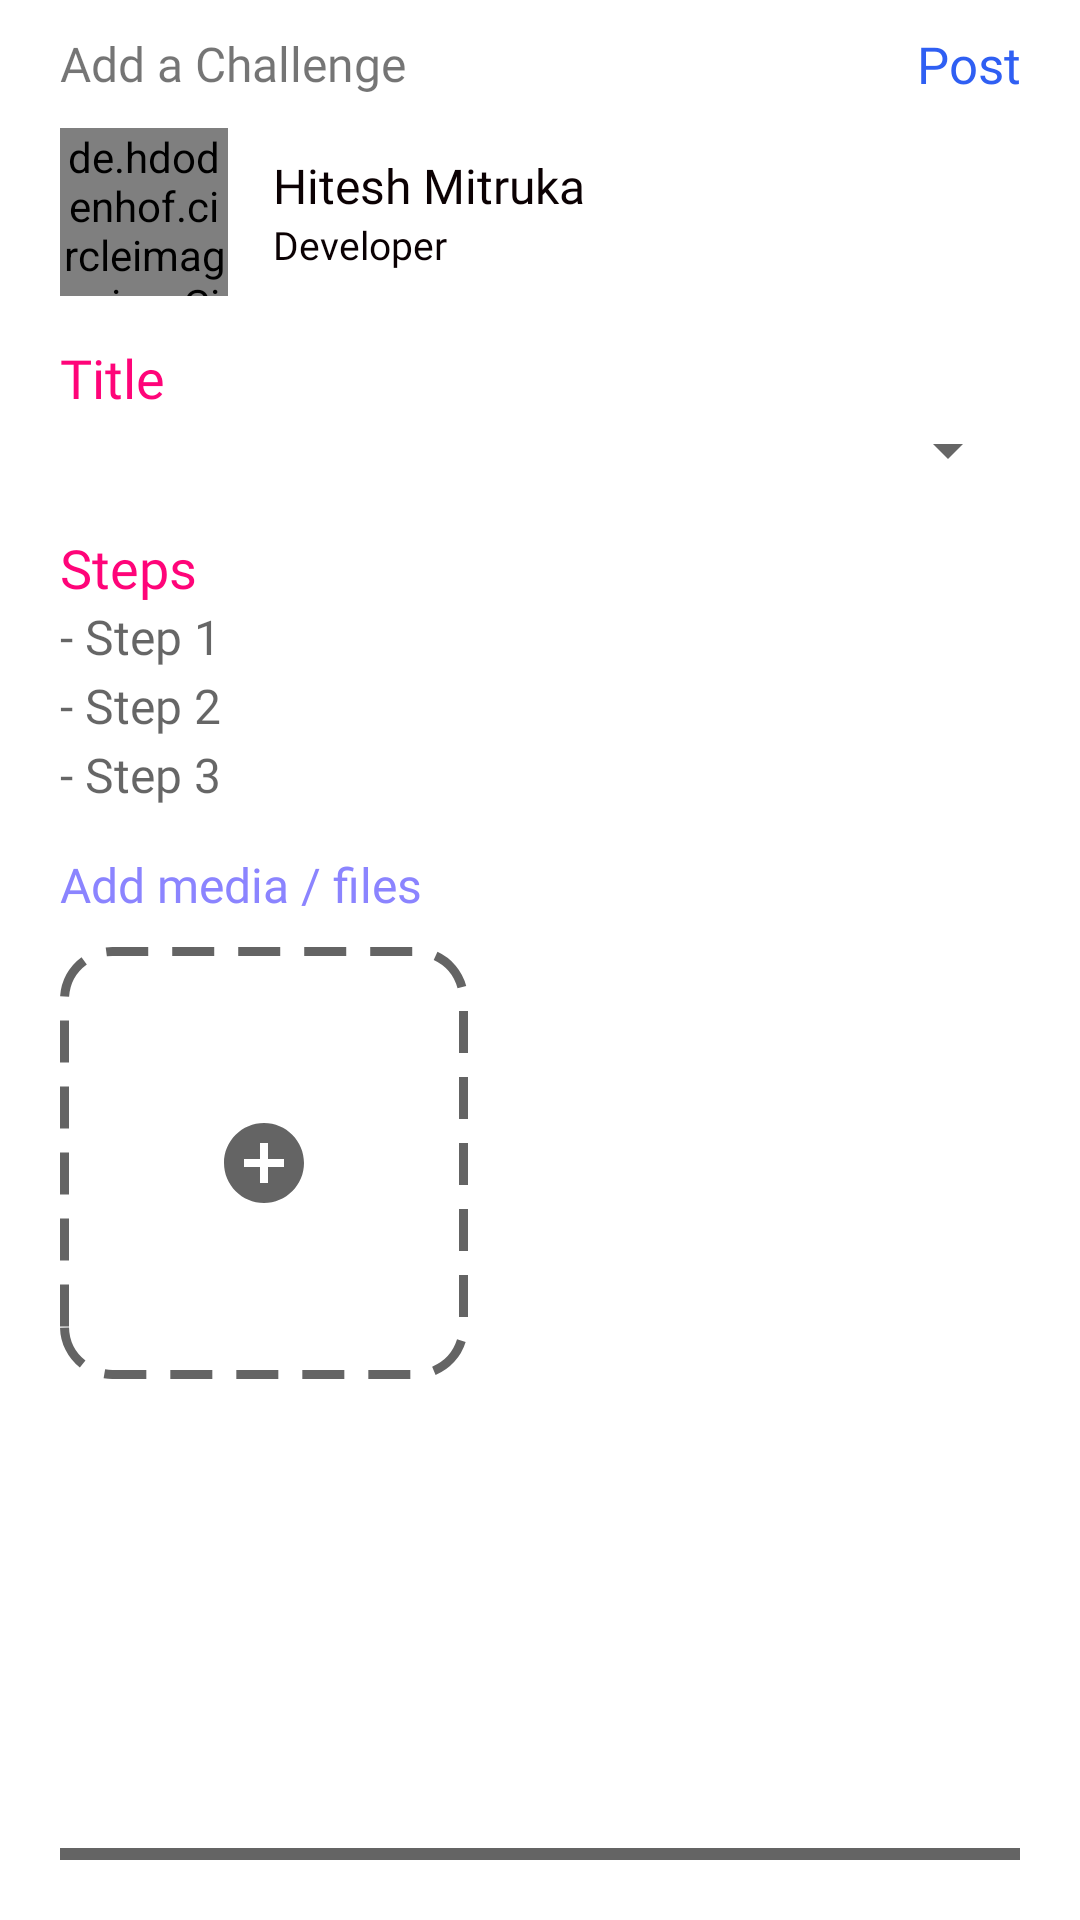

Named icons in this screenshot (1080×1920) and their centers, point (x, y):
add circle: point (264, 1163)
